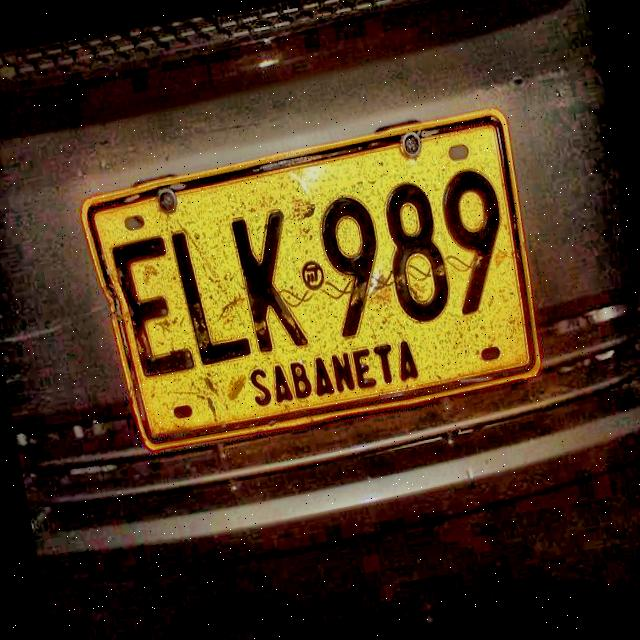plate: (84, 116, 538, 447)
